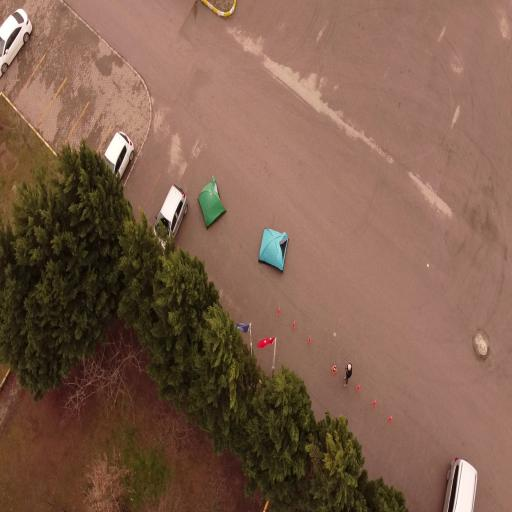tent: (257, 224, 290, 273), (195, 178, 227, 228)
